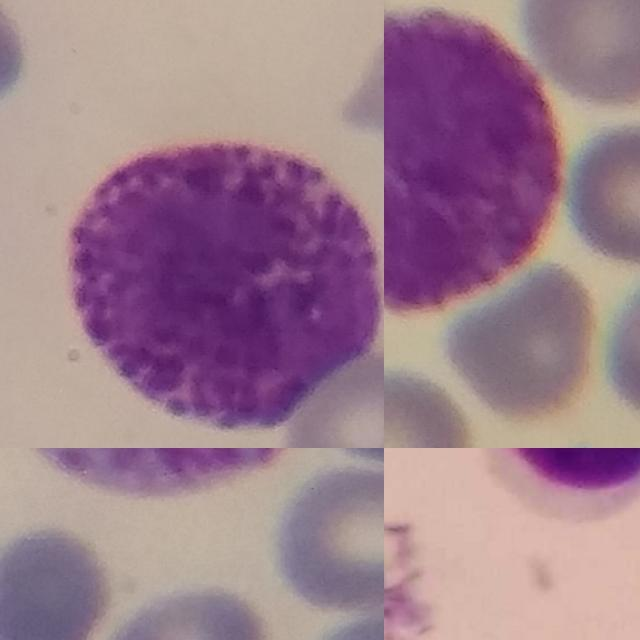Basophil: (69, 137, 384, 435), (384, 6, 564, 317), (0, 448, 317, 499)
Lymphocyte: (470, 448, 640, 524)
